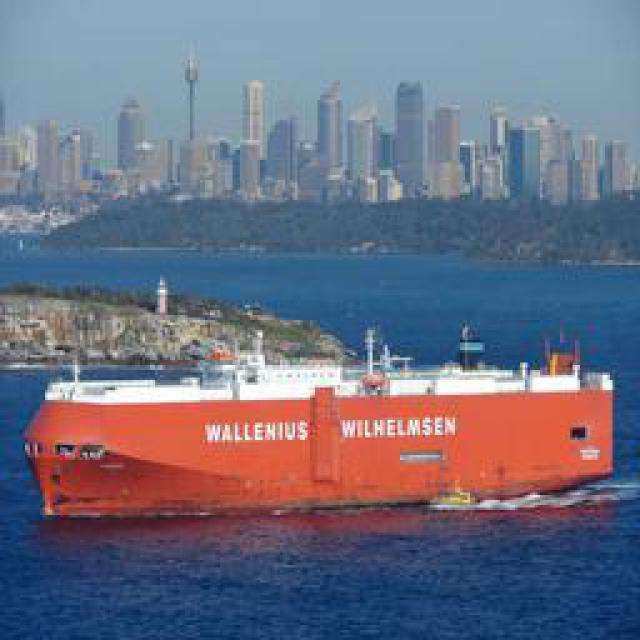Ship: (11, 345, 614, 533)
